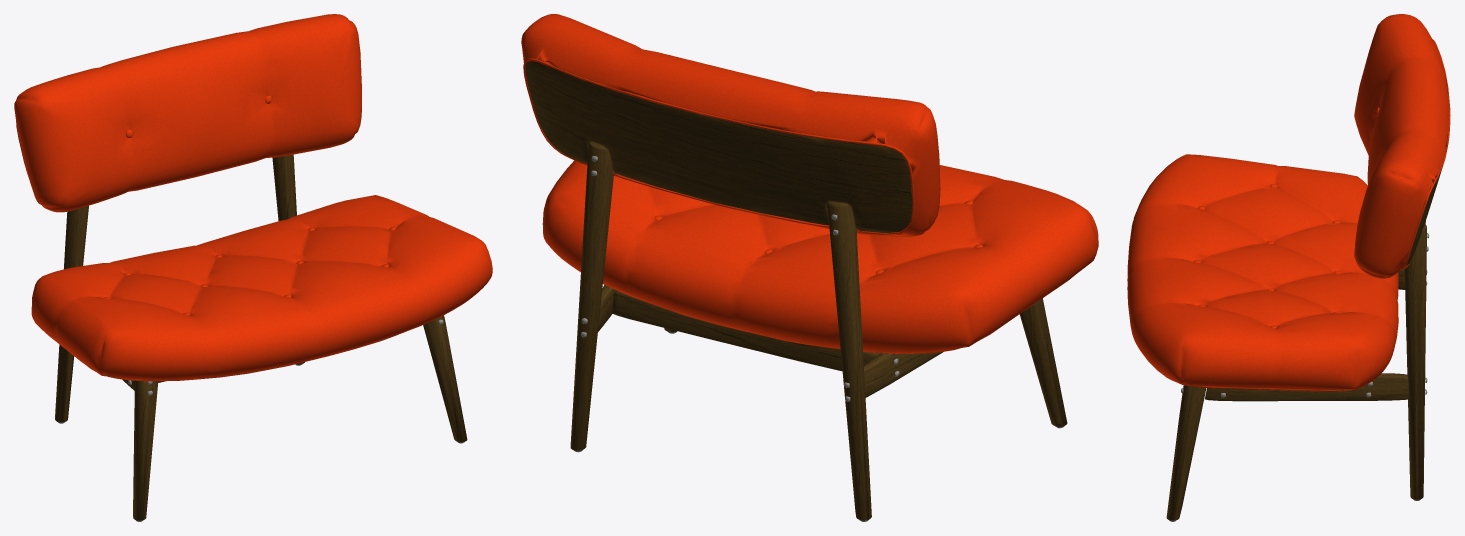
The model's file is casa-chair.glb.
The picture shows the model from 3 angles, left to right: view 1: azimuth 30°, elevation 25°; view 2: azimuth 150°, elevation 25°; view 3: azimuth 270°, elevation 25°; orthographic projection. The views are drawn at different scales.
Visible parts, largest first — view 1: SheenChair_fabric, SheenChair_wood; view 2: SheenChair_fabric, SheenChair_wood; view 3: SheenChair_fabric, SheenChair_wood.
Part boxes in pixels (<box>): SheenChair_fabric: <box>14,14,492,381</box>; SheenChair_wood: <box>55,154,467,520</box>; SheenChair_fabric: <box>521,14,1098,353</box>; SheenChair_wood: <box>525,61,1067,520</box>; SheenChair_fabric: <box>1127,14,1450,391</box>; SheenChair_wood: <box>1166,165,1443,520</box>.
Size of the model in its own units: 0.8265 by 0.6861 by 0.5702.
4 materials, 3 textured.
